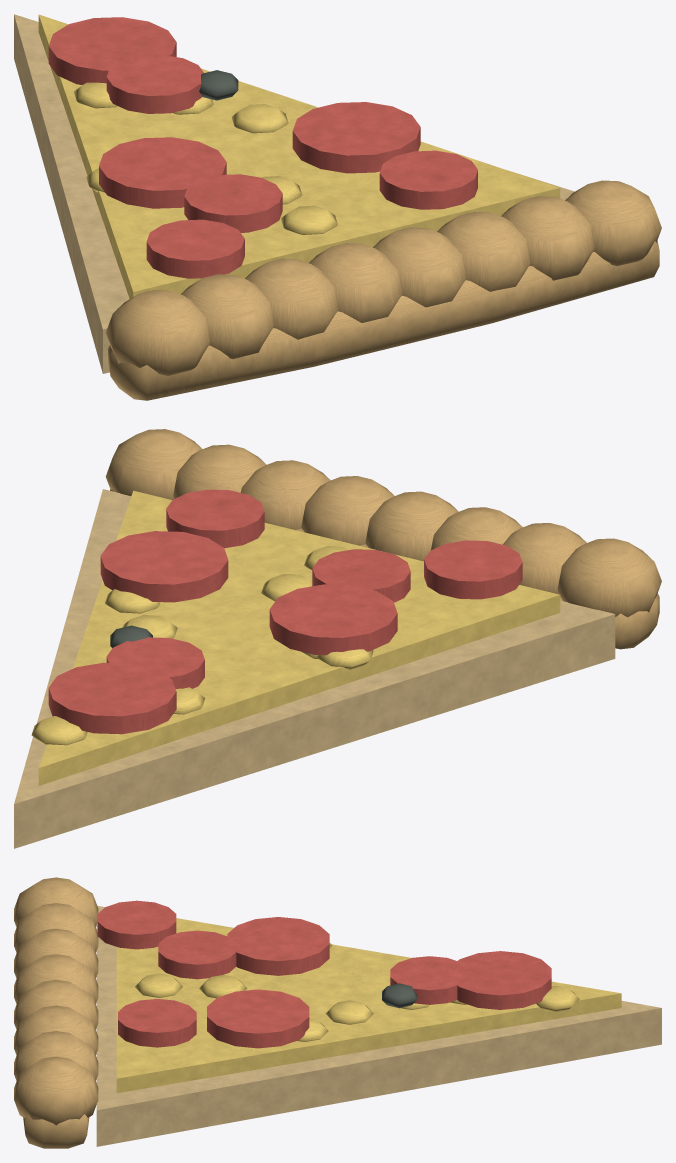
File: pizza.glb
3 views of the same model, one above another, from view 1: azimuth 30°, elevation 25°; view 2: azimuth 150°, elevation 25°; view 3: azimuth 270°, elevation 25° (orthographic). The views are drawn at different scales.
Visible parts, largest first — view 1: pizza_body; view 2: pizza_body; view 3: pizza_body.
Part boxes in pixels (x1,y1,x2,y2): pizza_body: (14,14,661,400); pizza_body: (14,429,661,848); pizza_body: (14,877,661,1148).
Bounding box in the file's own units: 0.254 × 0.0459 × 0.3209.
5 materials, 5 textured.
